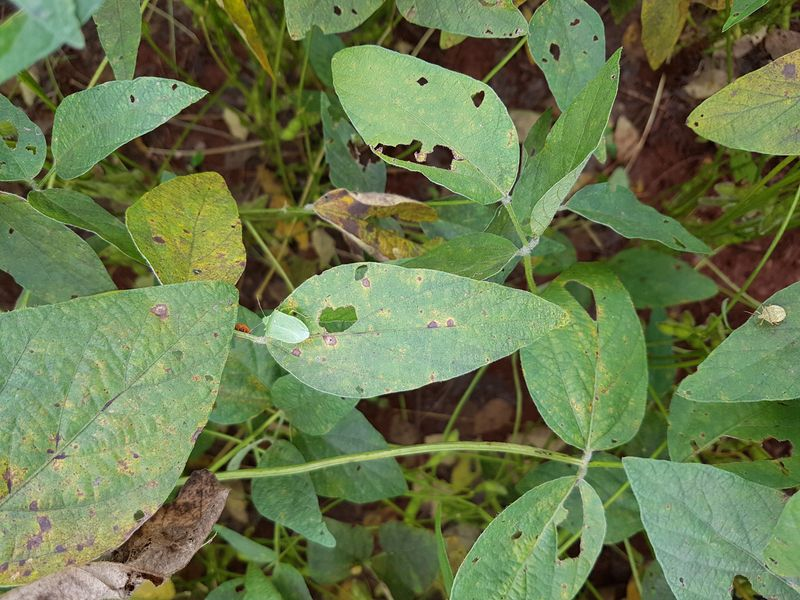Euschistus_heros_ninfa: (746, 297, 794, 336)
Nezara_viridula_adulto: (250, 294, 318, 354)
